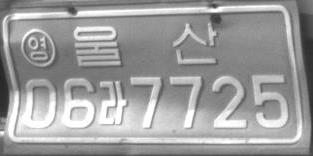0: (22, 78, 56, 129)
2: (211, 74, 247, 129)
5: (251, 73, 288, 129)
6: (61, 77, 96, 130)
7: (168, 75, 202, 130), (129, 76, 163, 129)
라: (99, 80, 128, 125)
영: (20, 29, 55, 67)
울산_D: (73, 21, 217, 67)
